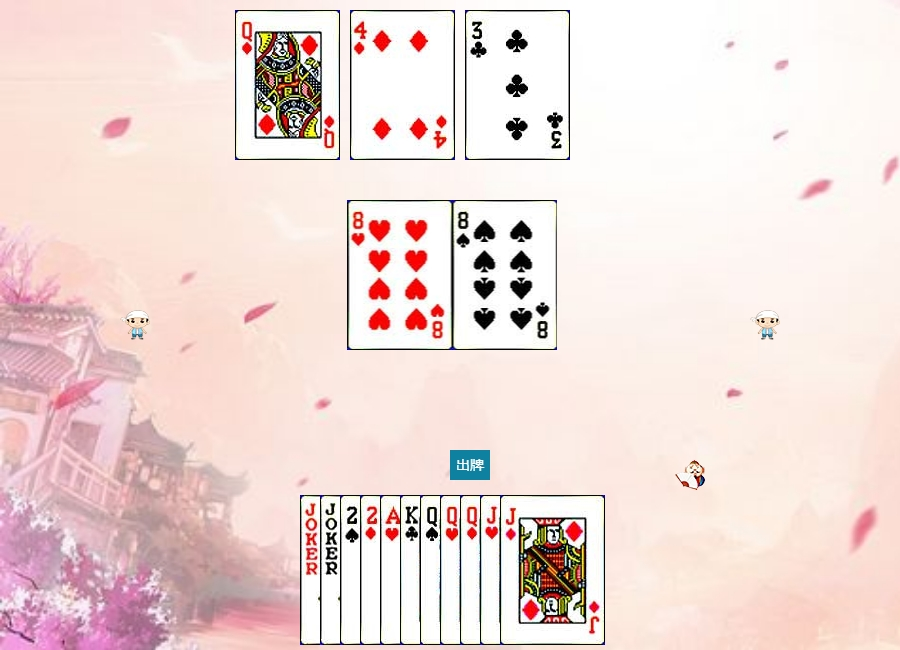11~1: (500, 495, 605, 645)
11~3: (480, 495, 585, 645)
12~1: (235, 10, 340, 160), (460, 495, 565, 645)
12~3: (440, 495, 545, 645)
12~4: (420, 495, 525, 645)
13~2: (400, 495, 505, 645)
14~3: (380, 495, 485, 645)
15~1: (360, 495, 465, 645)
15~4: (340, 495, 445, 645)
17~3: (320, 495, 425, 645)
18~4: (300, 495, 405, 645)
3~2: (465, 10, 570, 160)
4~1: (350, 10, 455, 160)
8~3: (348, 200, 453, 350)
8~4: (453, 200, 558, 350)
